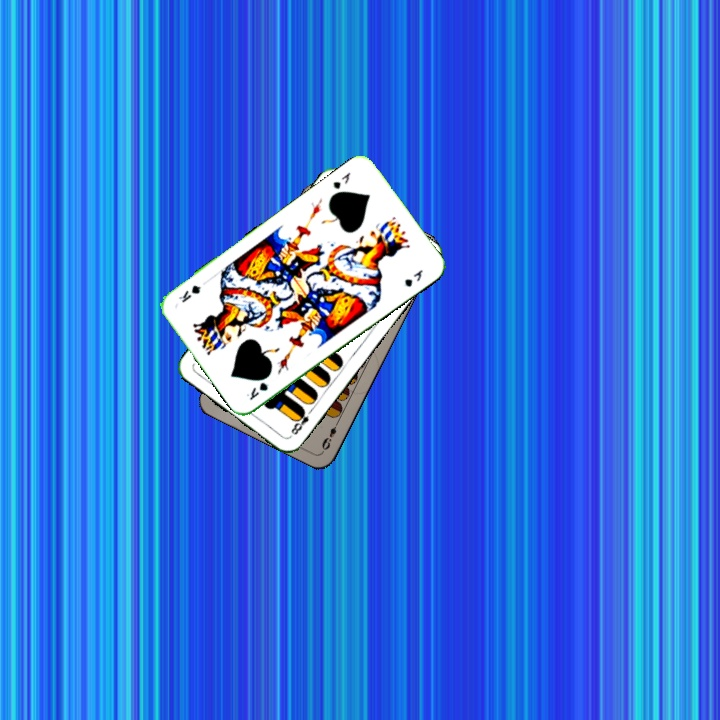E8: (287, 405, 315, 437)
E9: (318, 416, 342, 453)
GK: (242, 378, 272, 403), (329, 168, 353, 192)
